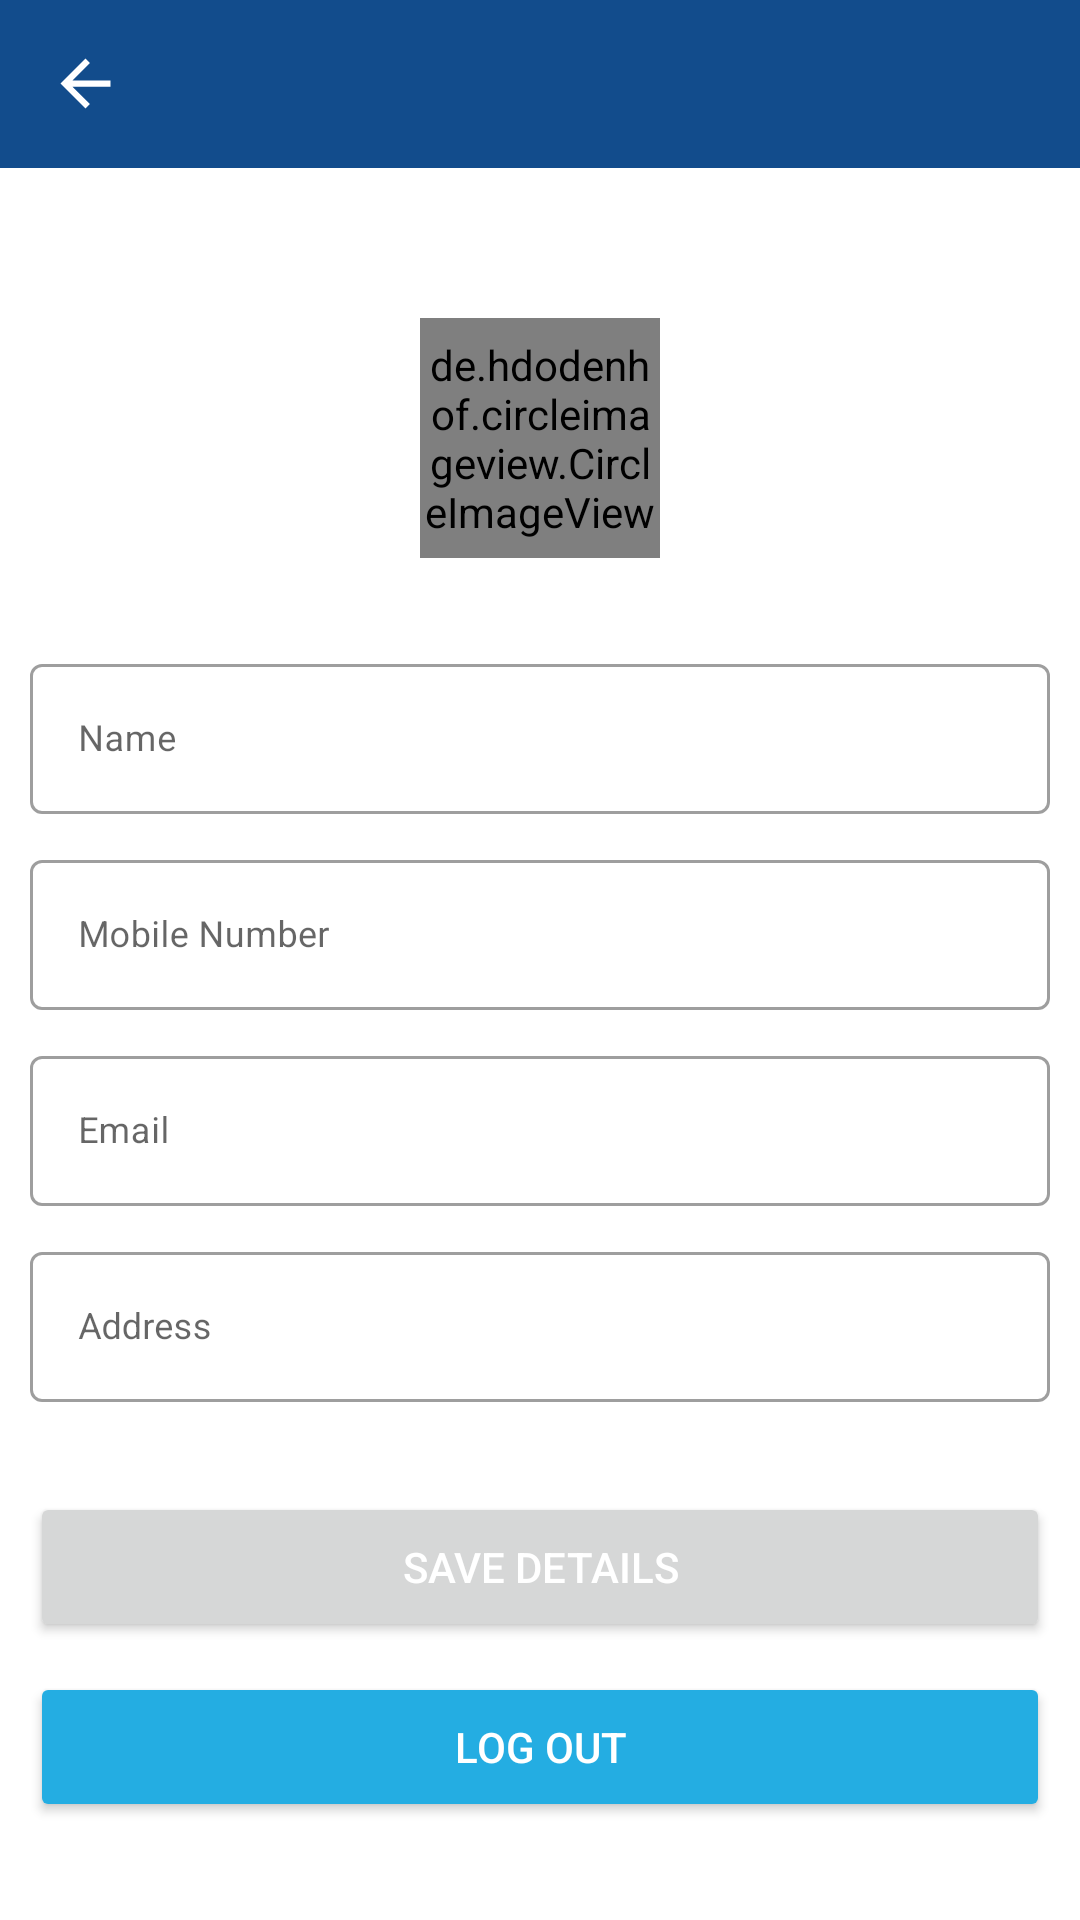

Named icons in this screenshot (1080w x 1920h) and their bounding boxes, (x1, y1, x2, y2):
arrow: (60, 58, 111, 109)
